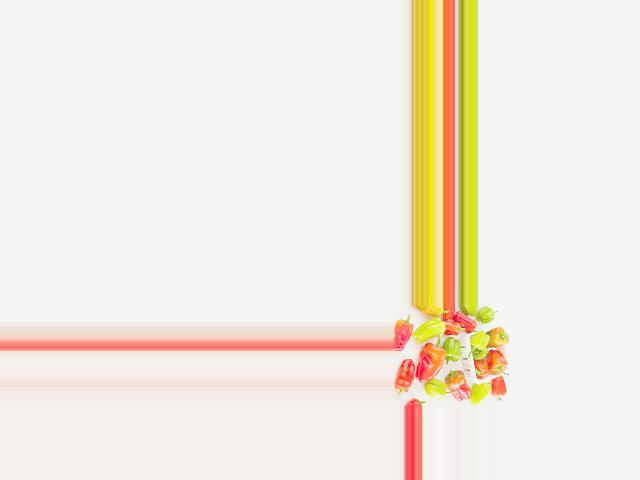bell_pepper: (393, 313, 416, 346)
